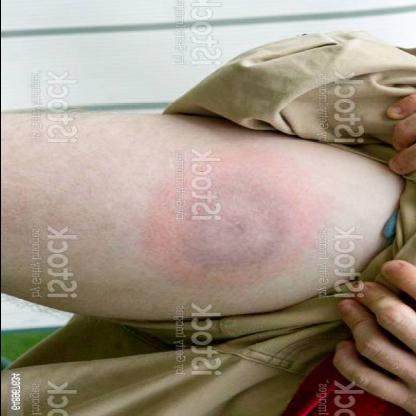Tick: (141, 150, 329, 288)
